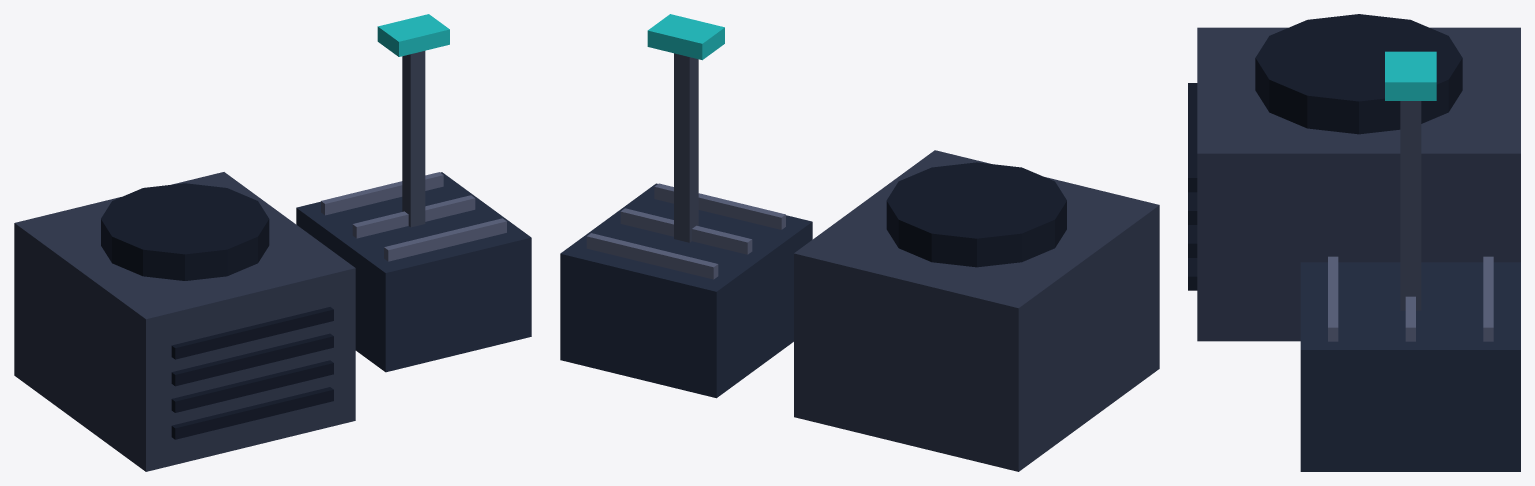
Rendered from Neon_RooftopEquipment_Showcase.glb.
3 views of the same model, side by side, from view 1: azimuth 30°, elevation 25°; view 2: azimuth 150°, elevation 25°; view 3: azimuth 270°, elevation 25° (orthographic). The views are drawn at different scales.
Parts seen in each view (by area): view 1: Neon_RooftopEquipment_Showcase; view 2: Neon_RooftopEquipment_Showcase; view 3: Neon_RooftopEquipment_Showcase.
Boxes of the visible parts, box(x1,y1,x2,y2) form: Neon_RooftopEquipment_Showcase: box(14, 14, 531, 471); Neon_RooftopEquipment_Showcase: box(560, 14, 1159, 471); Neon_RooftopEquipment_Showcase: box(1188, 14, 1520, 471).
Bounding box in the file's own units: 2.34 × 1.54 × 1.28.
